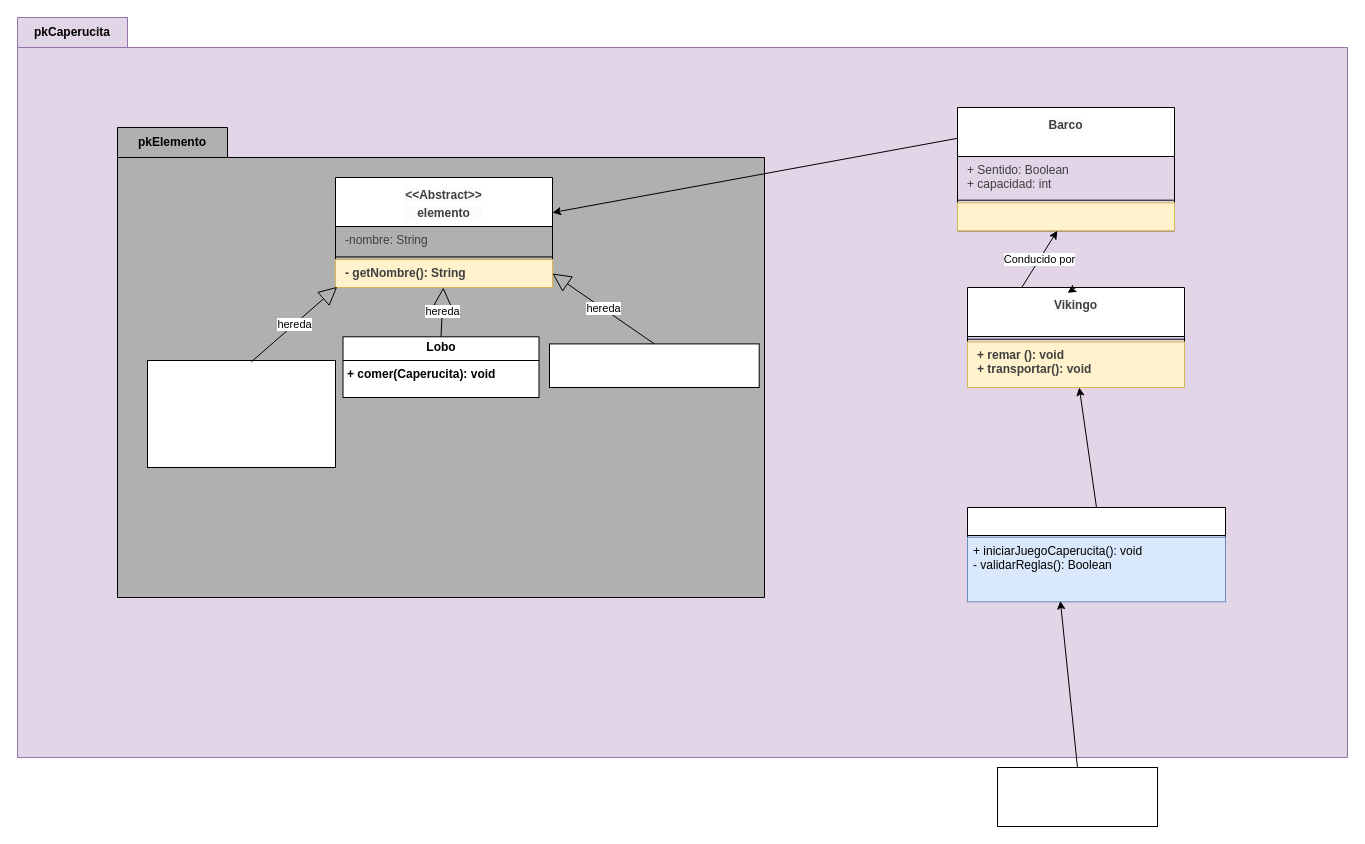
This 1365x844 diagram has some shape labels left out. The centre of each missing label's shape, as x and y in pixels:
+ mover(Vikingo, Elemento): void: the point at 1065,216
App + main ( String[ ] ): void: the point at 1077,796
Caperucita + comer(Uvas): void: the point at 241,414
Controller: the point at 1096,525
Uvas -: the point at 653,365
